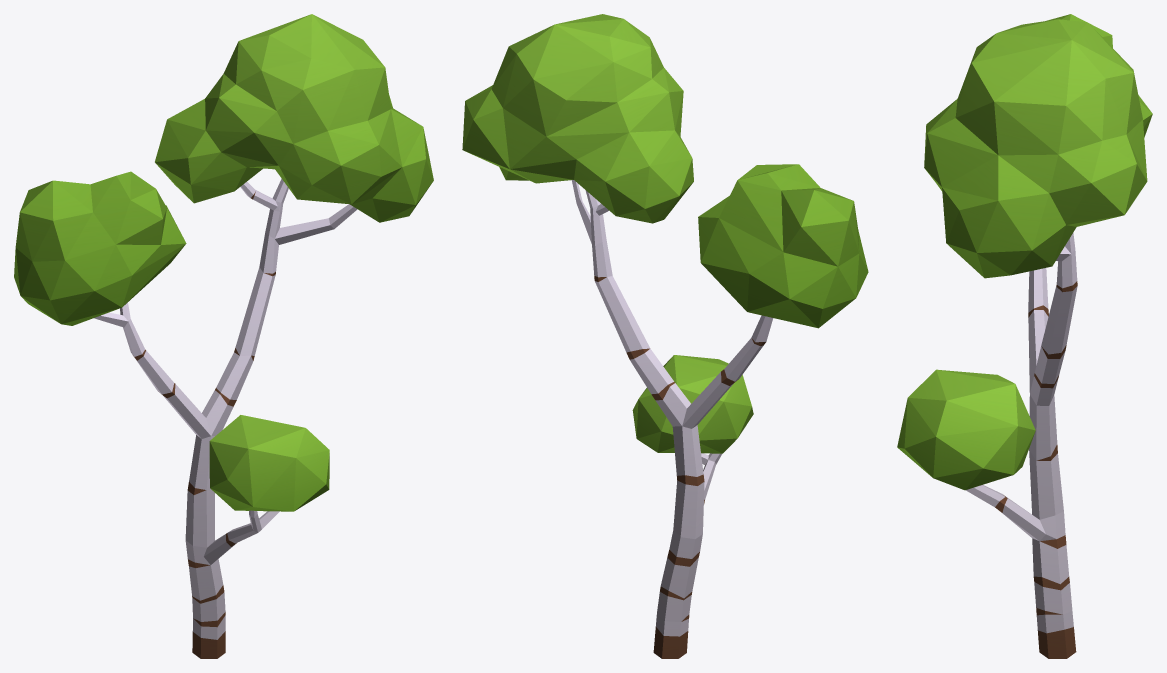
File: Tree_Birch_Green_05.fbx
The picture shows the model from 3 angles, left to right: view 1: azimuth 30°, elevation 25°; view 2: azimuth 150°, elevation 25°; view 3: azimuth 270°, elevation 25°; orthographic projection. The views are drawn at different scales.
Parts seen in each view (by area): view 1: Tree_Birch_Green_05; view 2: Tree_Birch_Green_05; view 3: Tree_Birch_Green_05.
Boxes of the visible parts, x1=… form: Tree_Birch_Green_05: x1=14, y1=14, x2=433, y2=658; Tree_Birch_Green_05: x1=462, y1=14, x2=868, y2=658; Tree_Birch_Green_05: x1=897, y1=14, x2=1152, y2=658.
Bounding box in the file's own units: 249 × 375 × 129.
